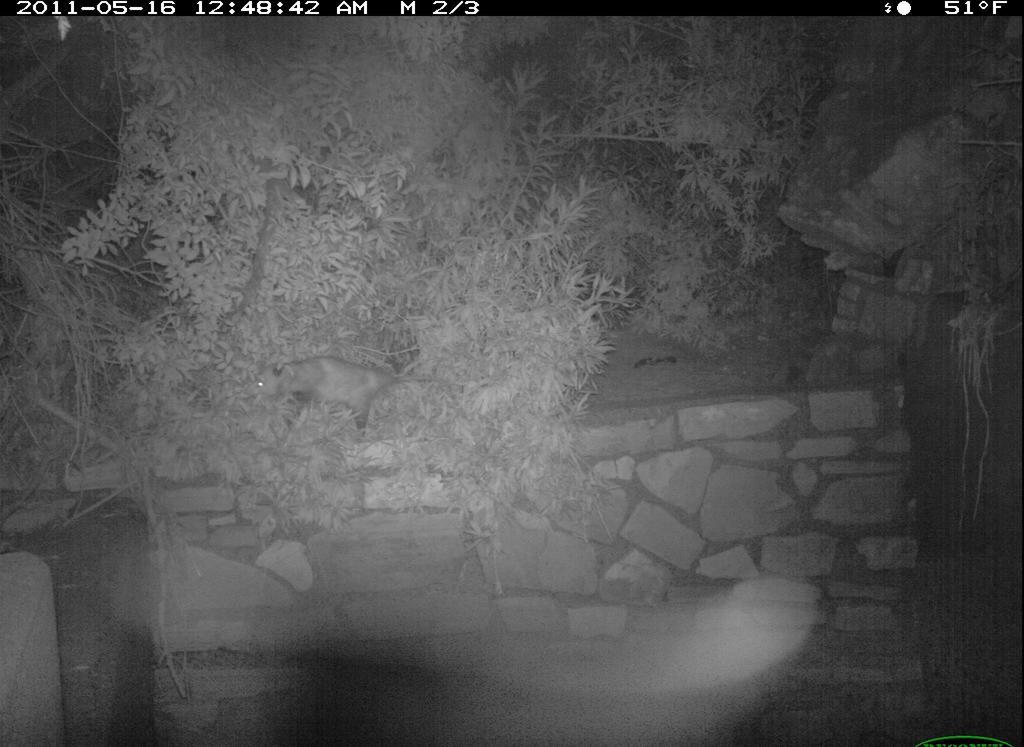opossum: (235, 354, 446, 440)
